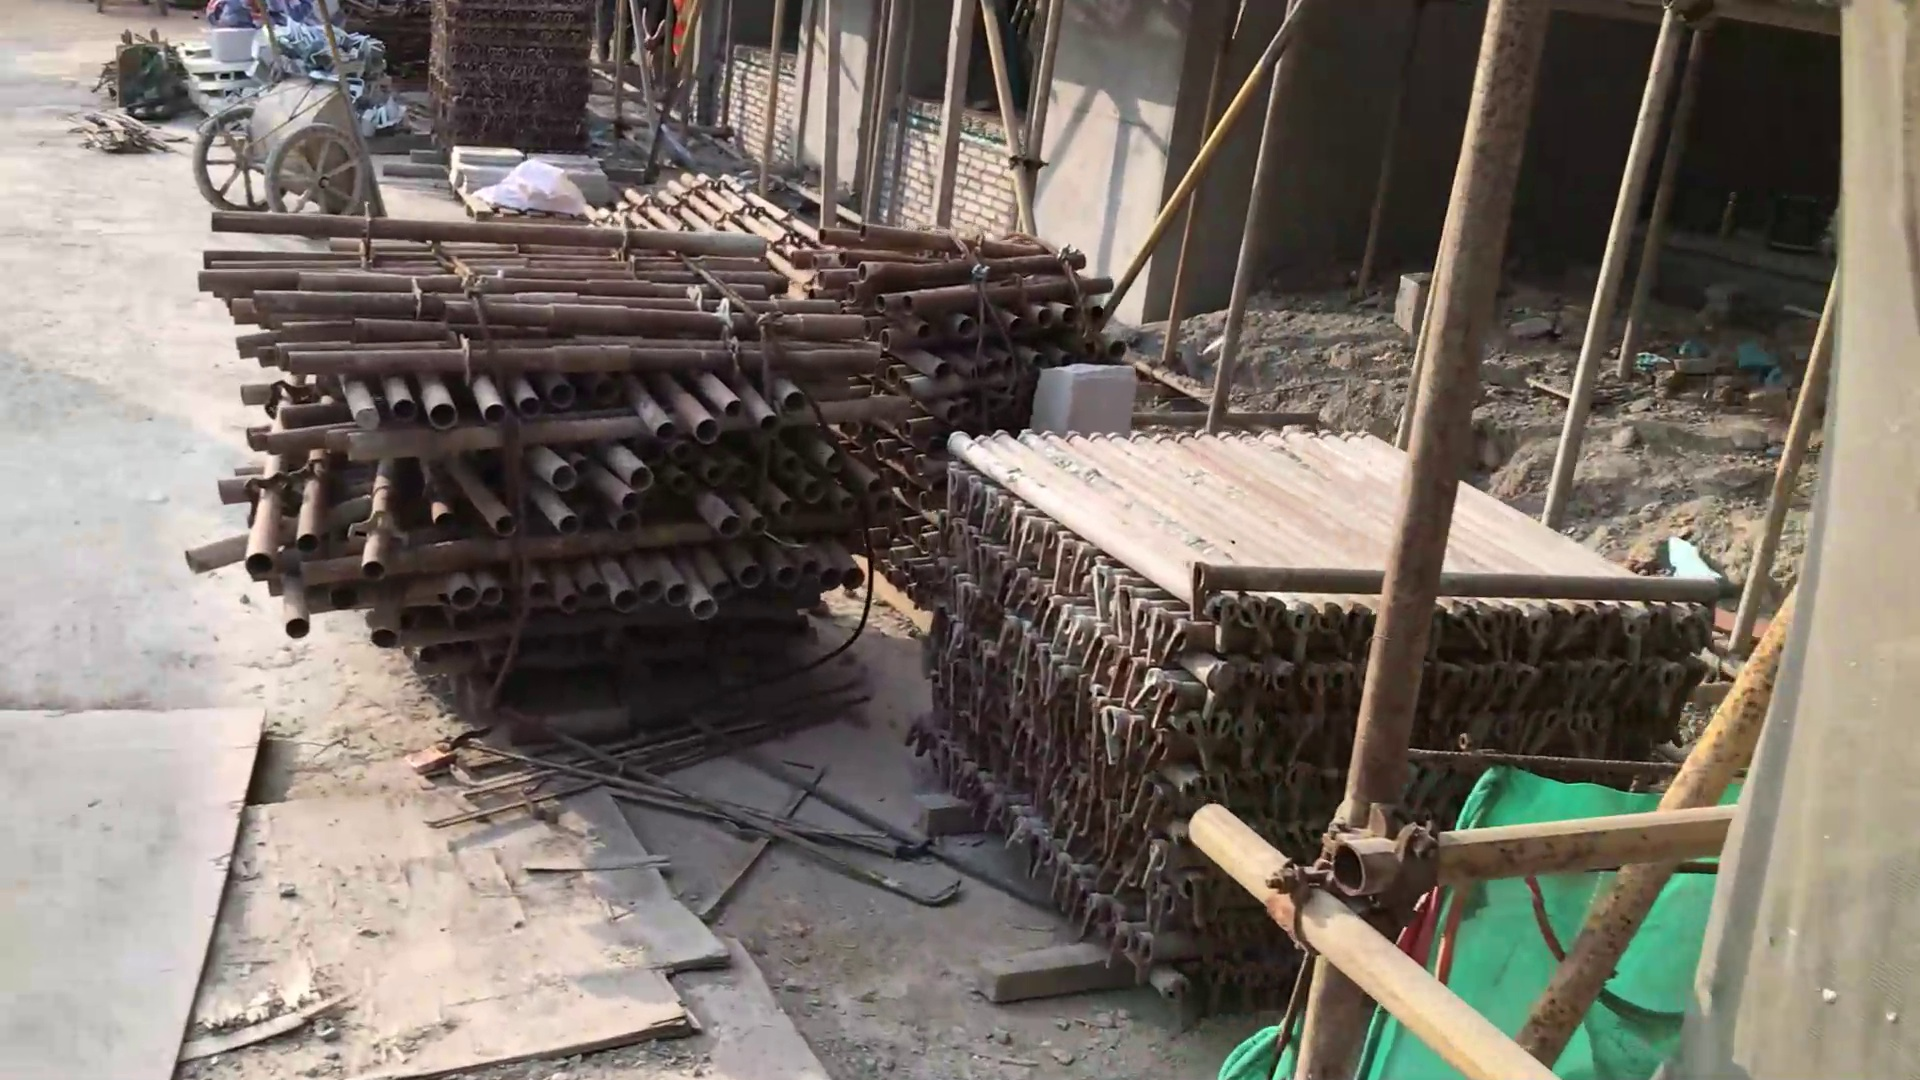handcart: (190, 1, 389, 223)
scaffold: (928, 426, 1708, 1000), (202, 214, 1108, 645), (426, 1, 600, 157), (599, 178, 823, 258)
